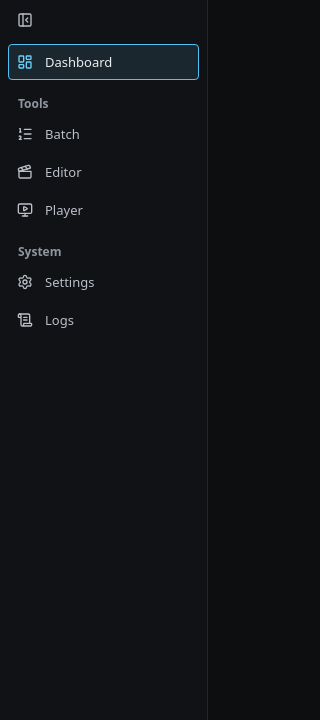
Test case: Sidebar › names the collapse toggle and flips it to expand
The image size is (320, 720).
Click the button named "Collapse sidebar" at [25, 20], box x1=9 y1=4 x2=41 y2=36
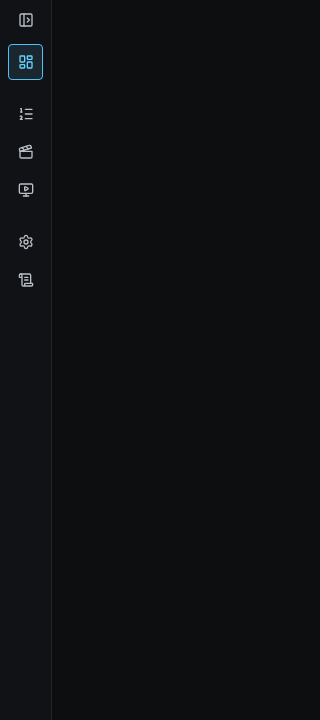
Check: the button named "Expand sidebar" is collapsed, box x1=10 y1=4 x2=42 y2=36
